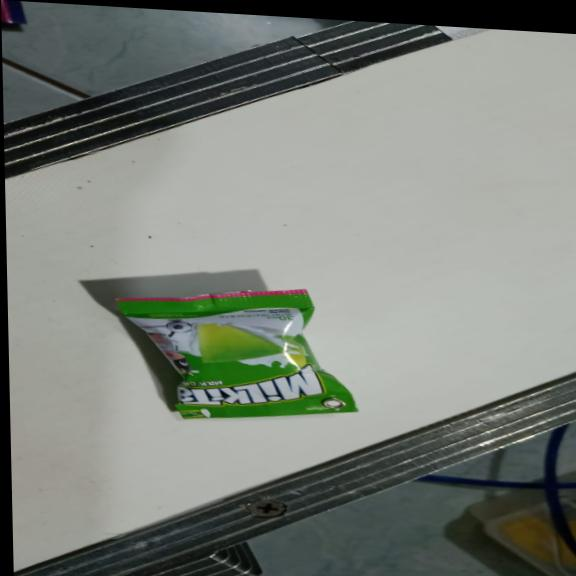Plastik: (109, 278, 360, 430)
